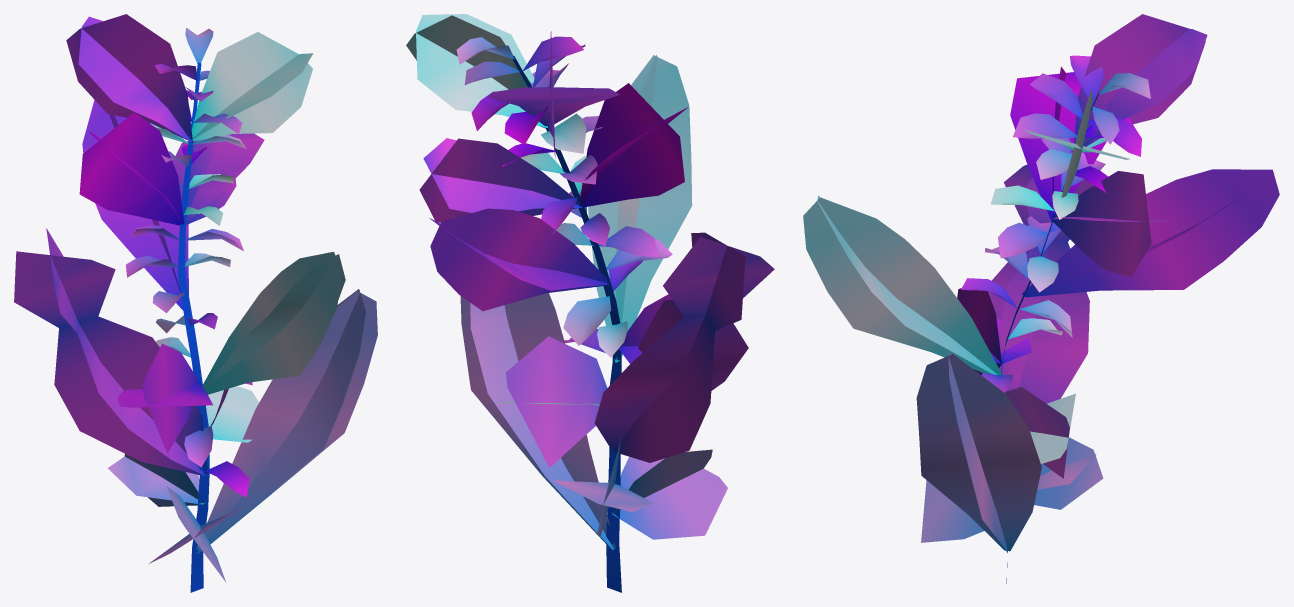
File: European_Spindle_wk1ncbxja_Mid_wk1ncbxja_VarH_LOD2.fbx
3 views of the same model, side by side, from view 1: azimuth 30°, elevation 25°; view 2: azimuth 150°, elevation 25°; view 3: azimuth 270°, elevation 25° (orthographic). The views are drawn at different scales.
Visible parts, largest first — view 1: _cwio_VarH_LOD3; view 2: _cwio_VarH_LOD3; view 3: _cwio_VarH_LOD3.
Boxes of the visible parts, bbox=[...] form: _cwio_VarH_LOD3: bbox=[14, 14, 377, 592]; _cwio_VarH_LOD3: bbox=[406, 14, 774, 592]; _cwio_VarH_LOD3: bbox=[803, 14, 1279, 583].
Size of the model in its own units: 52.28 by 87.2 by 65.72.
